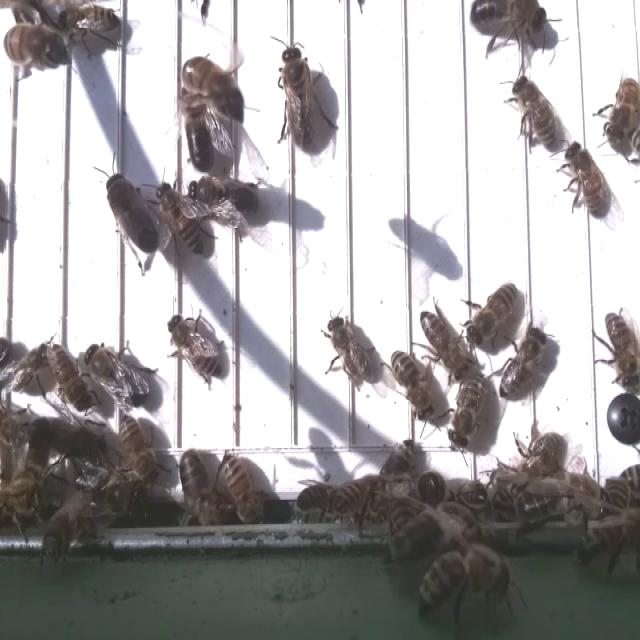Drone: (102, 168, 162, 257), (82, 340, 153, 412), (280, 45, 322, 155), (189, 175, 264, 221), (469, 0, 554, 40), (182, 90, 216, 176)
Worker: (165, 310, 226, 381), (158, 179, 207, 262), (324, 311, 374, 390), (513, 72, 560, 155), (466, 279, 520, 350), (386, 347, 435, 425), (501, 323, 548, 402), (564, 138, 608, 222), (418, 303, 465, 381), (46, 341, 88, 418), (450, 374, 489, 453), (603, 308, 640, 391), (221, 451, 258, 523), (54, 1, 124, 38), (605, 75, 640, 148)
